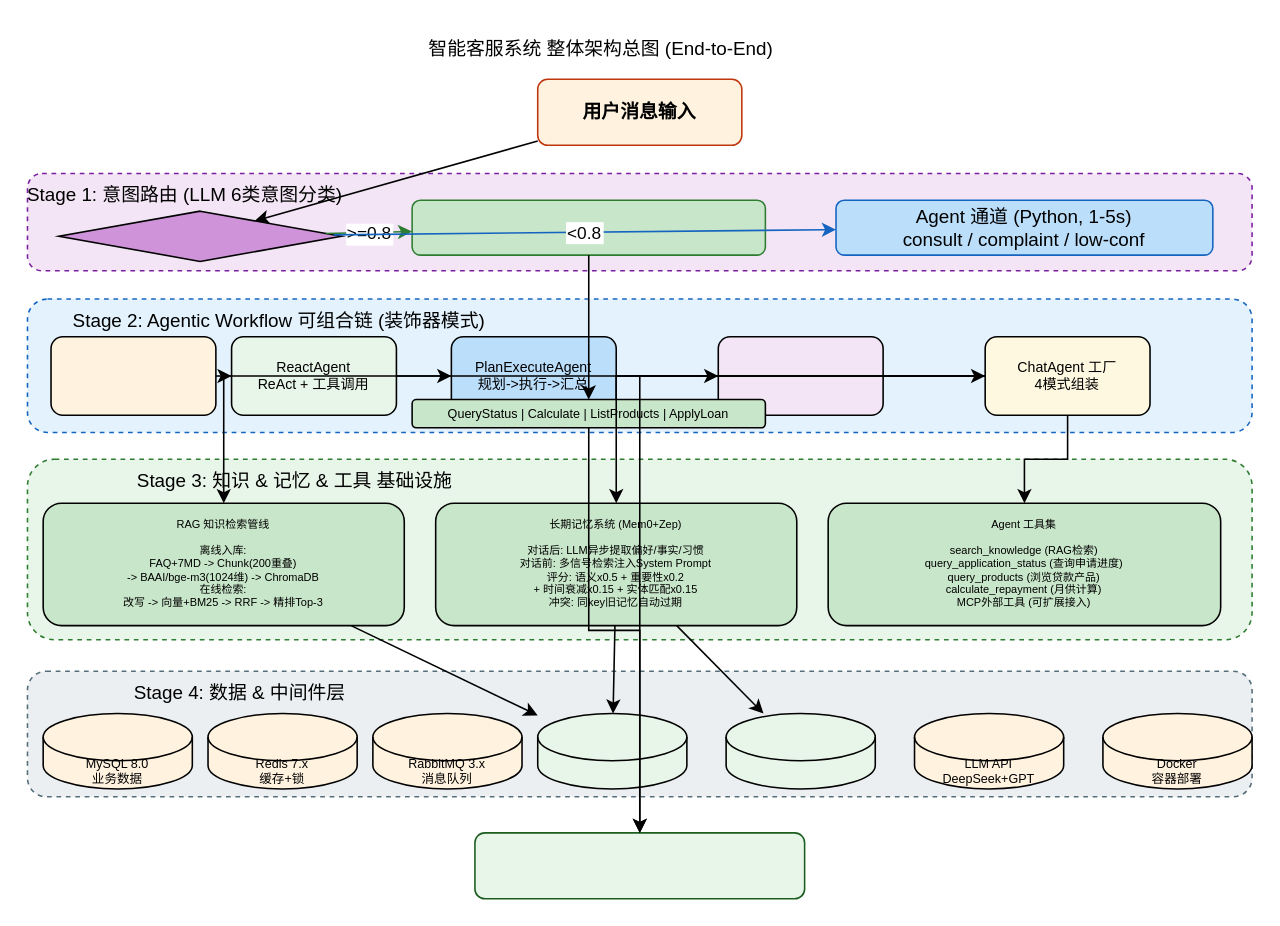
Some shapes in this 1280 by 926 pixel diagram are drawn without their labels. The centre of each missing label's shape, as x and y in pixels:
BaseAgent 抽象基类: the point at 132,375
ChromaDB 向量+记忆: the point at 611,750
MongoDB 短期对话: the point at 800,750
QUERY_STATUS | CALCULATE LIST_PRODUCTS | APPLY_LOAN CONSULT | COMPLAINT: the point at 199,235
ReflectionAgent 回复->审查->修正: the point at 800,375
SSE 流式返回回复 (Markdown 渲染 + 工具调用展示): the point at 639,865
Workflow 快通道 (Java, <100ms) query / calc / list / apply: the point at 588,227
